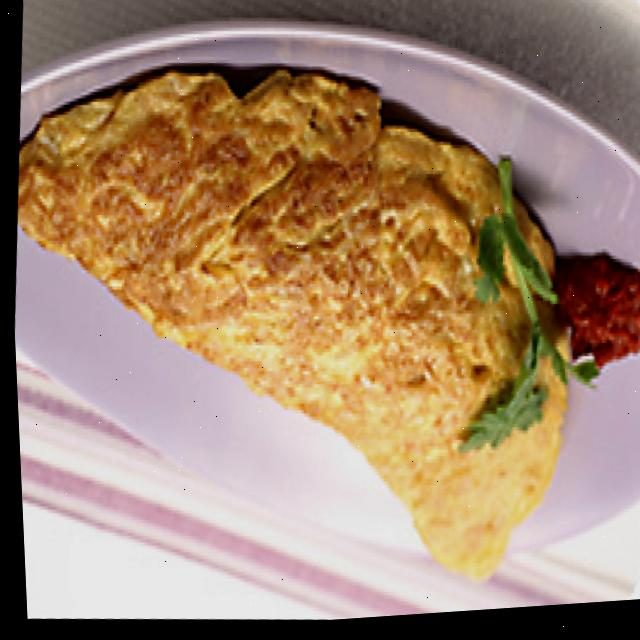鸡蛋料理: (2, 22, 594, 623)
